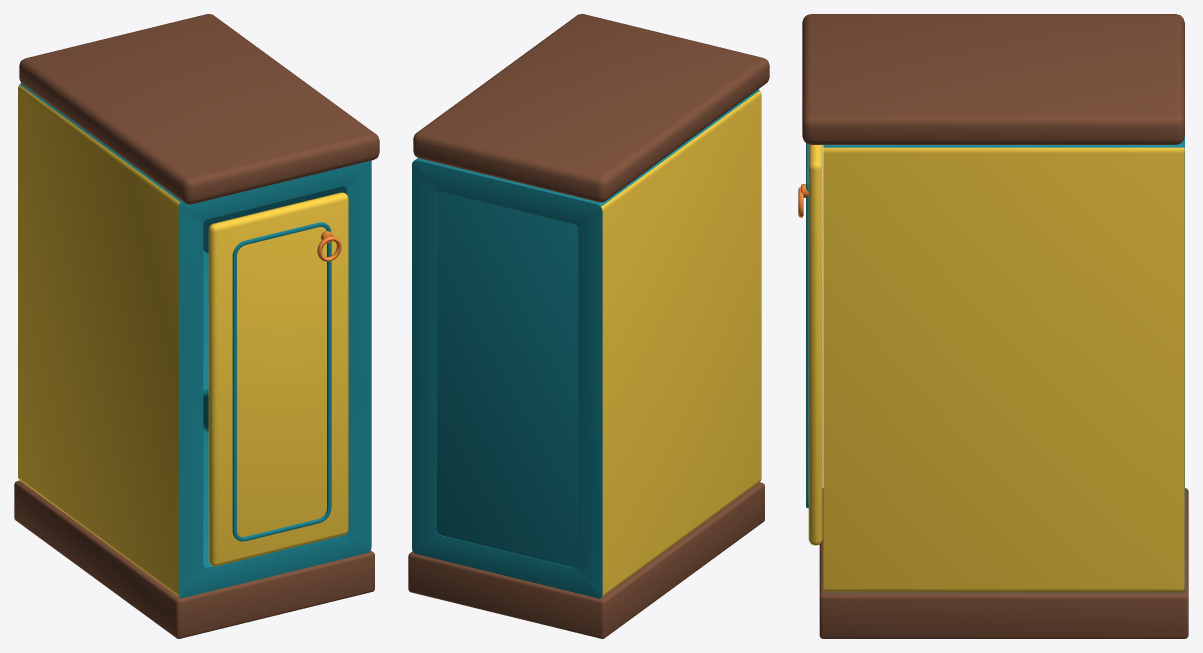
The model's file is armario_cozinha_base_1porta_colonial.glb.
3 renders of one model, left to right at view 1: azimuth 30°, elevation 25°; view 2: azimuth 150°, elevation 25°; view 3: azimuth 270°, elevation 25°, orthographic. The views are drawn at different scales.
Parts seen in each view (by area): view 1: armario_cozinha_base_1porta_colonial, porta_1; view 2: armario_cozinha_base_1porta_colonial; view 3: armario_cozinha_base_1porta_colonial, porta_1.
Boxes of the visible parts, x1,y1,x2,y2 form: armario_cozinha_base_1porta_colonial: (14, 14, 379, 638); porta_1: (208, 192, 348, 566); armario_cozinha_base_1porta_colonial: (408, 14, 769, 638); armario_cozinha_base_1porta_colonial: (802, 14, 1188, 638); porta_1: (798, 143, 822, 545).
Size of the model in its own units: 0.404 by 0.9 by 0.6112.
1 material, 1 textured.
